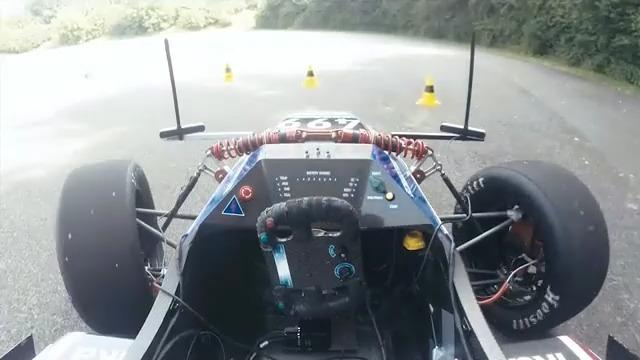yellow_cone: (417, 73, 439, 110), (303, 63, 319, 88), (221, 62, 234, 86)
